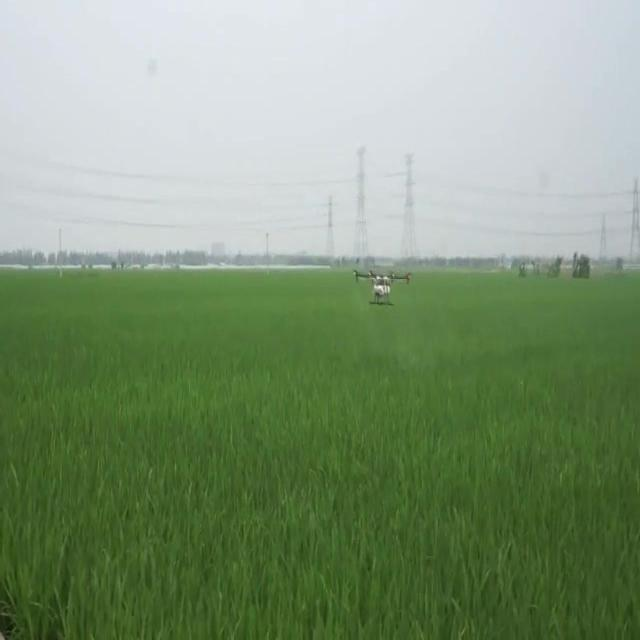drone: (354, 266, 414, 311)
